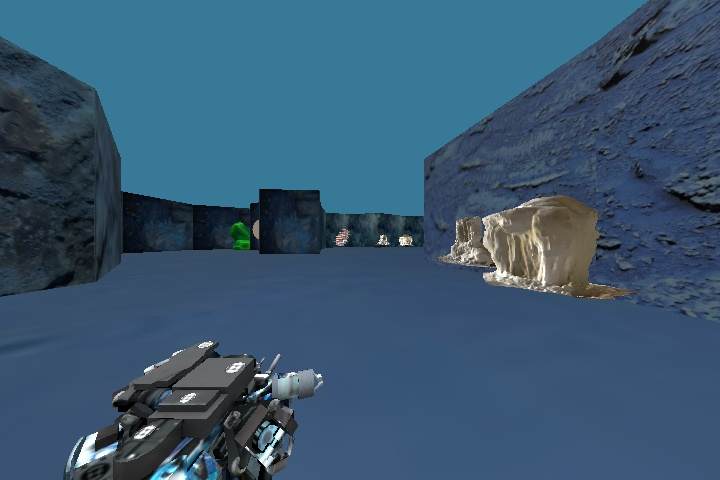formation: (482, 187, 599, 293), (440, 207, 489, 271), (373, 228, 417, 248)
green_crystal: (226, 217, 251, 251)
mushrooms: (330, 224, 351, 248)
